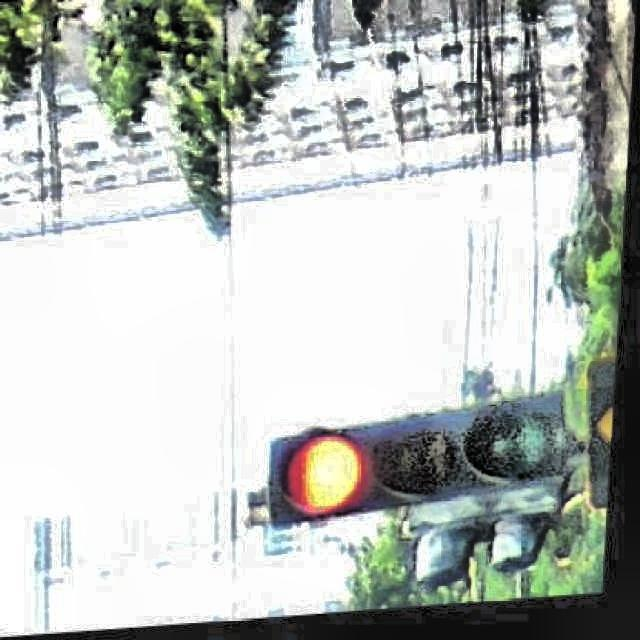red: (266, 395, 578, 502)
